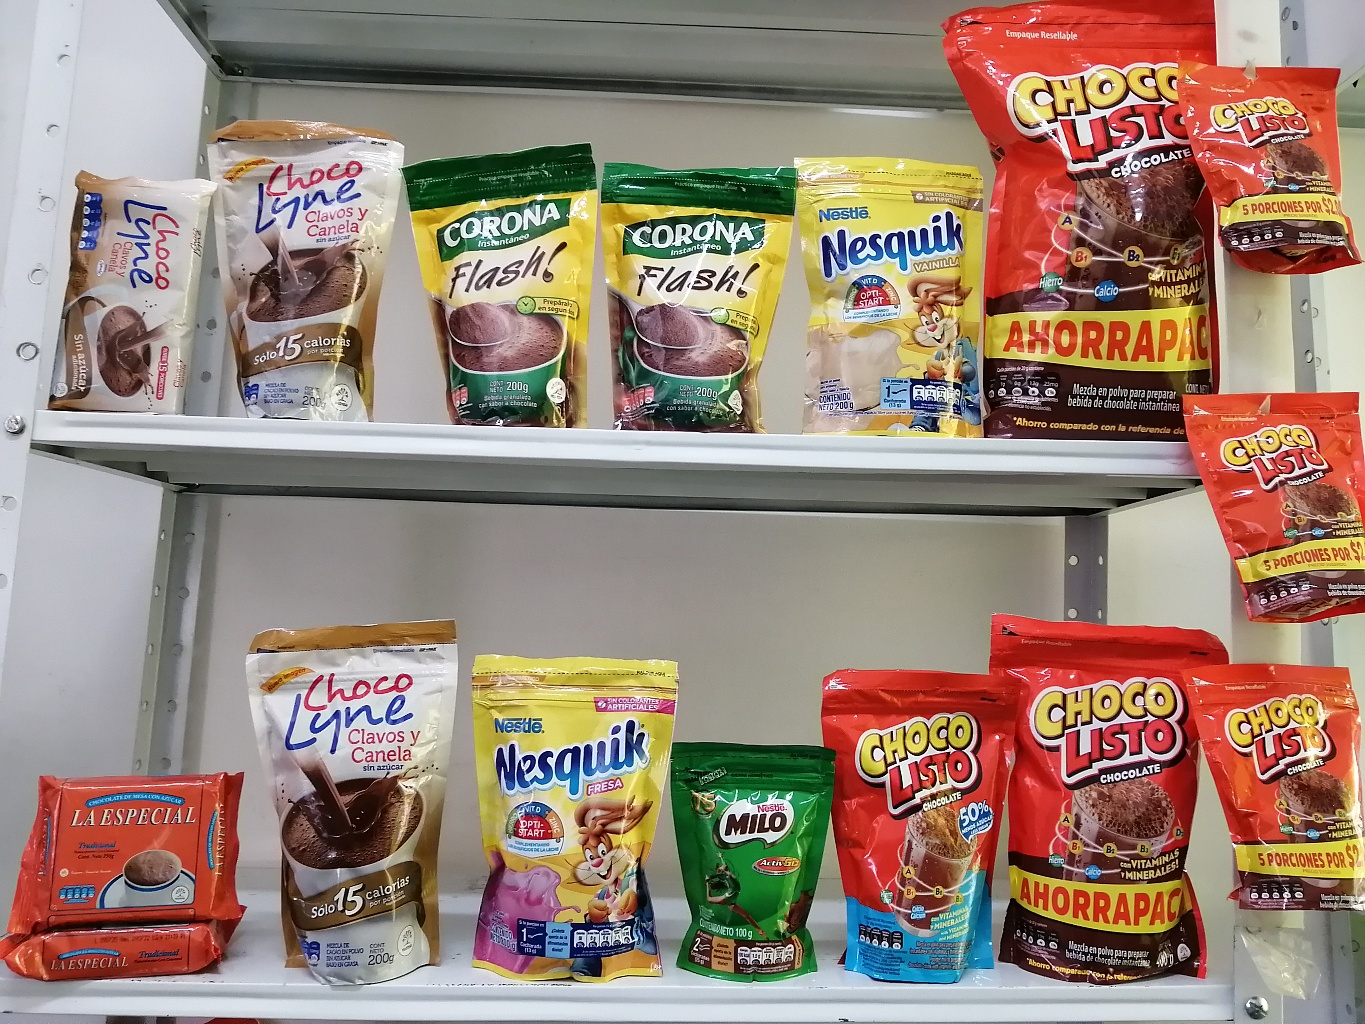COL0170103DYP1,500: (945, 2, 1232, 467)
COL0170103DYP10000: (1177, 368, 1359, 636)
COL0170103DYP40000: (989, 606, 1229, 990)
COL0170104DYP20000: (816, 655, 1010, 987)
COL0170203DYP10000: (666, 726, 830, 990)
COL0170305DYP20000: (463, 649, 682, 989)
COL0170306DYP20000: (795, 142, 989, 443)
